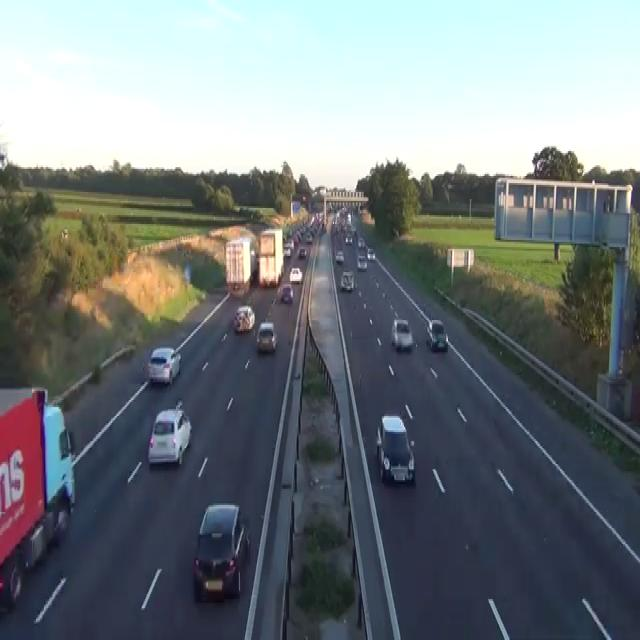Car: (281, 491, 367, 638), (192, 501, 250, 601), (147, 402, 191, 466), (147, 345, 181, 386), (391, 318, 413, 350), (426, 318, 448, 350), (256, 322, 277, 352), (233, 304, 254, 332), (340, 270, 354, 292), (278, 283, 293, 302), (289, 266, 302, 282), (357, 254, 367, 270), (335, 249, 344, 263), (60, 228, 68, 242), (367, 247, 375, 260), (283, 245, 291, 258), (298, 247, 307, 258), (284, 238, 293, 249), (344, 233, 353, 243), (357, 237, 365, 247), (305, 231, 312, 242), (322, 224, 326, 233)
Truck: (0, 384, 75, 613), (375, 414, 415, 486), (224, 235, 256, 295), (257, 228, 284, 286)
